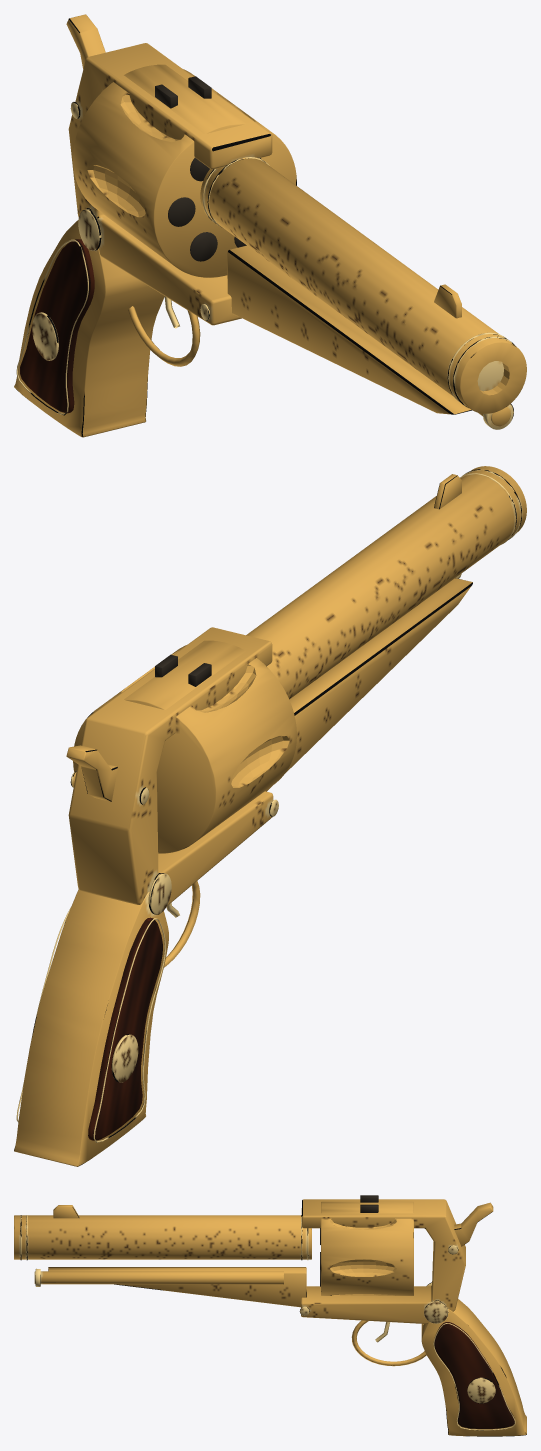
Rendered from remington_1875_gold.glb.
The picture shows the model from 3 angles, top to bottom: view 1: azimuth 30°, elevation 25°; view 2: azimuth 150°, elevation 25°; view 3: azimuth 270°, elevation 25°; orthographic projection. The views are drawn at different scales.
Parts seen in each view (by area): view 1: Barrel, WalnutGrip, BoreAndSights; view 2: Barrel, WalnutGrip; view 3: Barrel, WalnutGrip, BoreAndSights.
Boxes of the visible parts, bbox=[...] form: Barrel: bbox=[14, 14, 526, 437]; WalnutGrip: bbox=[20, 239, 94, 413]; BoreAndSights: bbox=[155, 76, 260, 261]; Barrel: bbox=[14, 466, 526, 1166]; WalnutGrip: bbox=[88, 917, 162, 1140]; Barrel: bbox=[14, 1199, 526, 1436]; WalnutGrip: bbox=[434, 1322, 514, 1428]; BoreAndSights: bbox=[320, 1195, 378, 1286].
Bounding box in the file's own units: 0.094 × 0.2478 × 0.508.
Materials: 3 (2 with a texture image).
